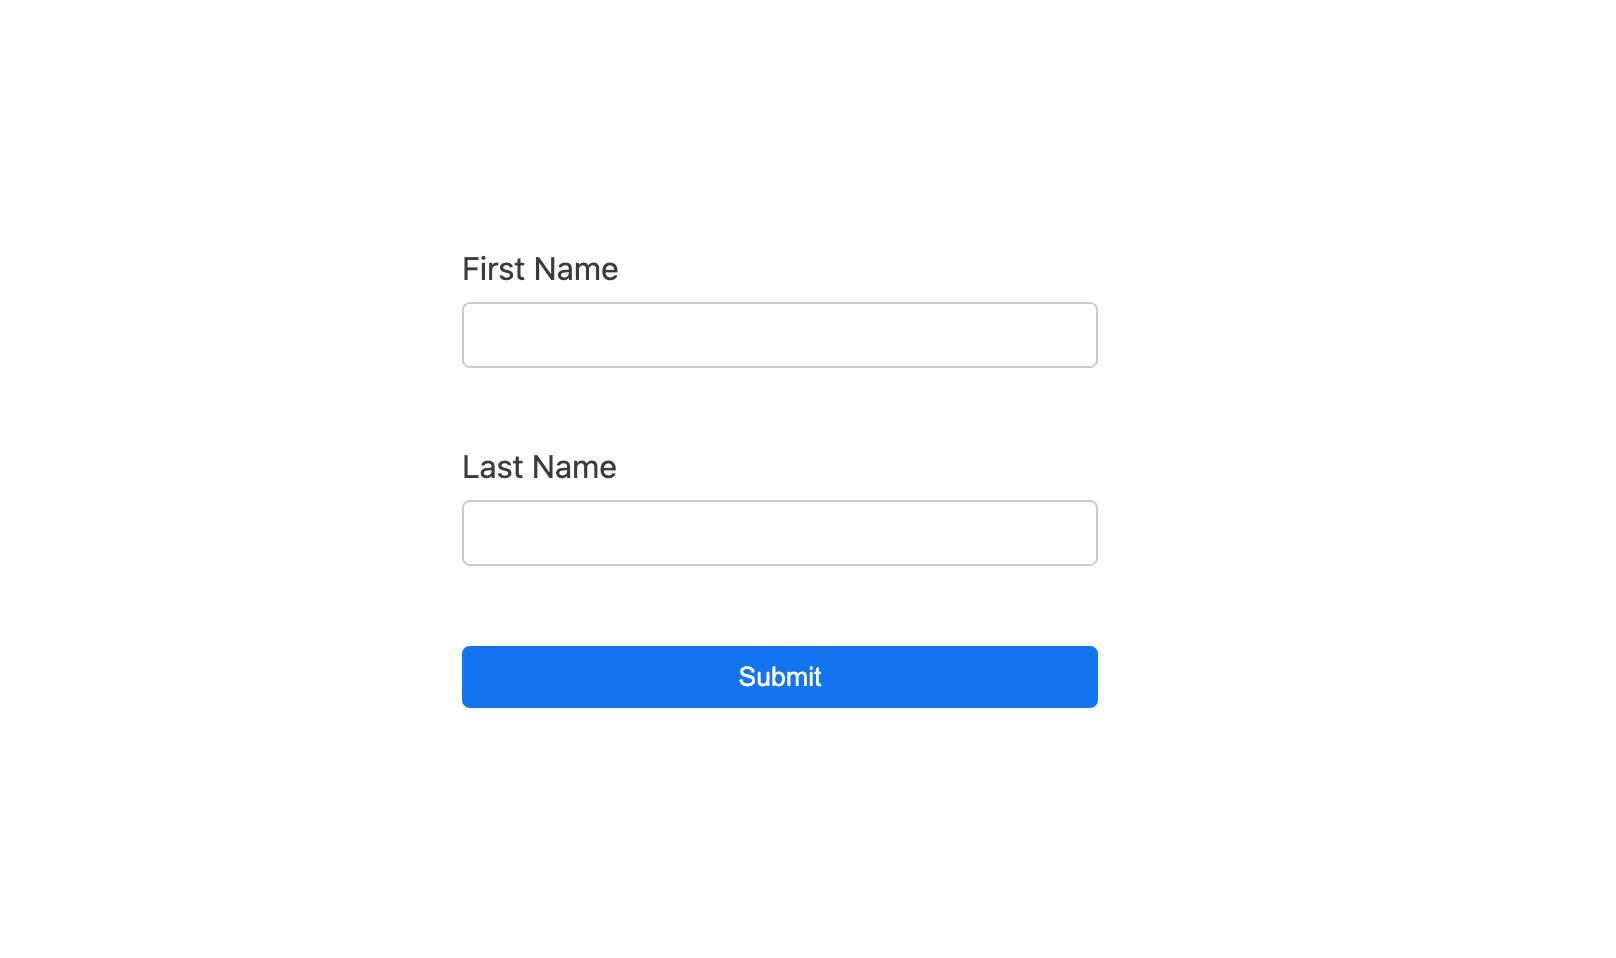button: (461, 646, 1102, 708)
input: (462, 500, 1102, 570), (462, 301, 1101, 370)
label: (461, 251, 617, 285), (462, 452, 620, 484)
